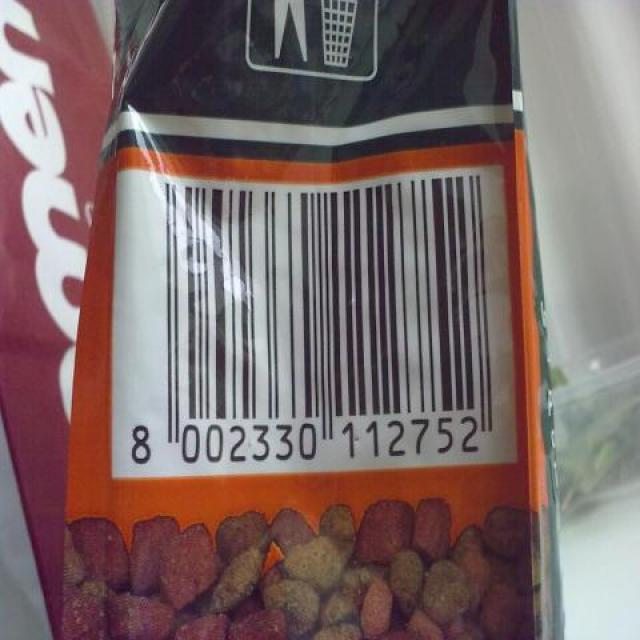Barcode: (110, 166, 521, 474)
